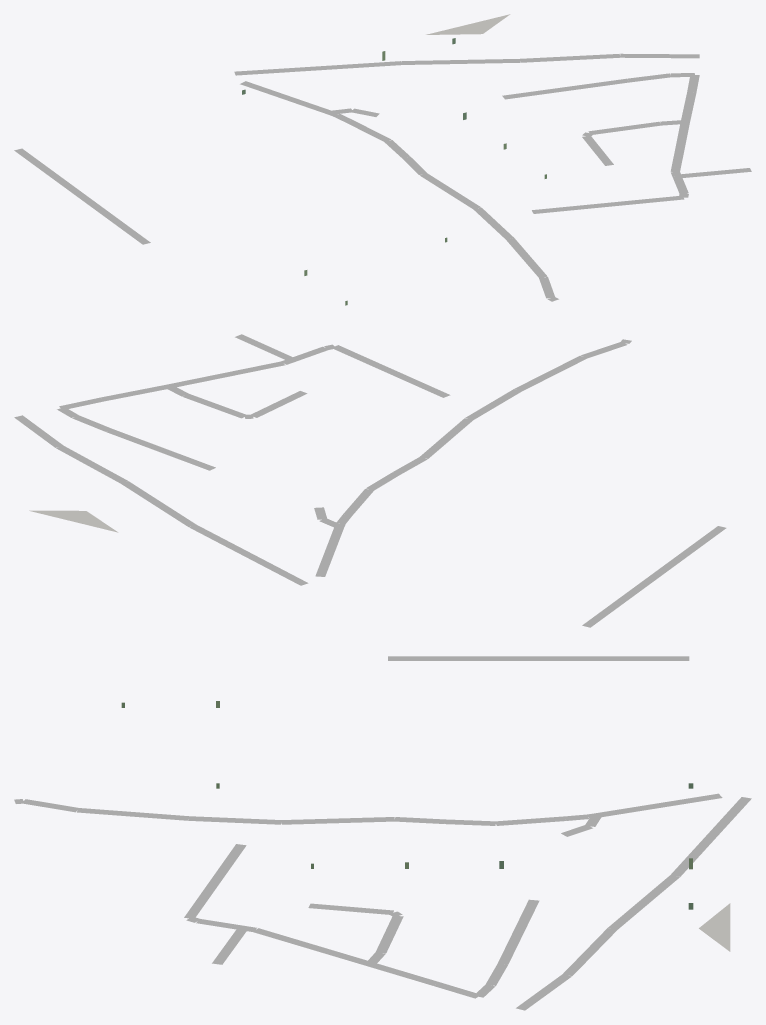
3 renders of one model, top to bottom at view 1: azimuth 30°, elevation 25°; view 2: azimuth 150°, elevation 25°; view 3: azimuth 270°, elevation 25°, orthographic. The views are drawn at different scales.
Size of the model in its own units: 527 by 8.95 by 468.
